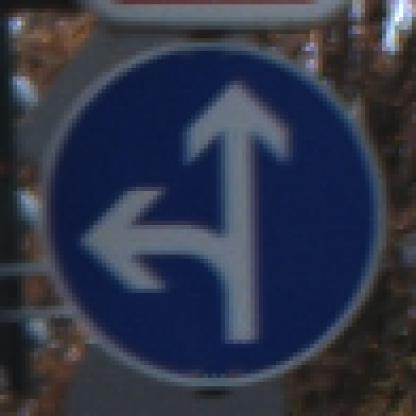Straight or Left: (39, 39, 383, 383)
